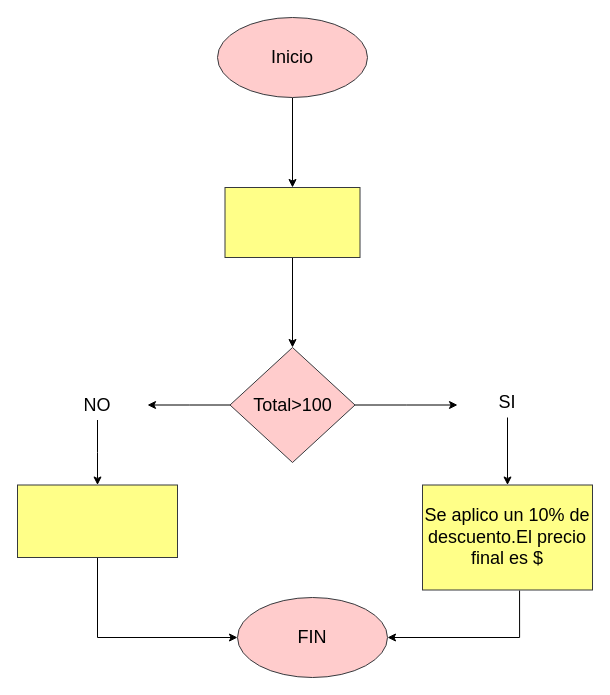
Some shapes in this 610 by 695 pixel diagram are drawn without their labels. The shapes that lost their labels are listed below. From the top down, each one's centre as x and y in pixels, then its label:
(x=292, y=222): Ingresa el total de la compra
(x=97, y=521): no se aplica descuento.El precio final es $
